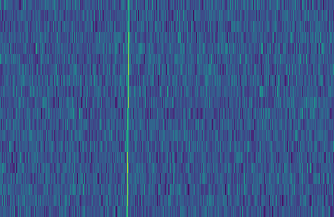signal: (120, 0, 131, 217)
